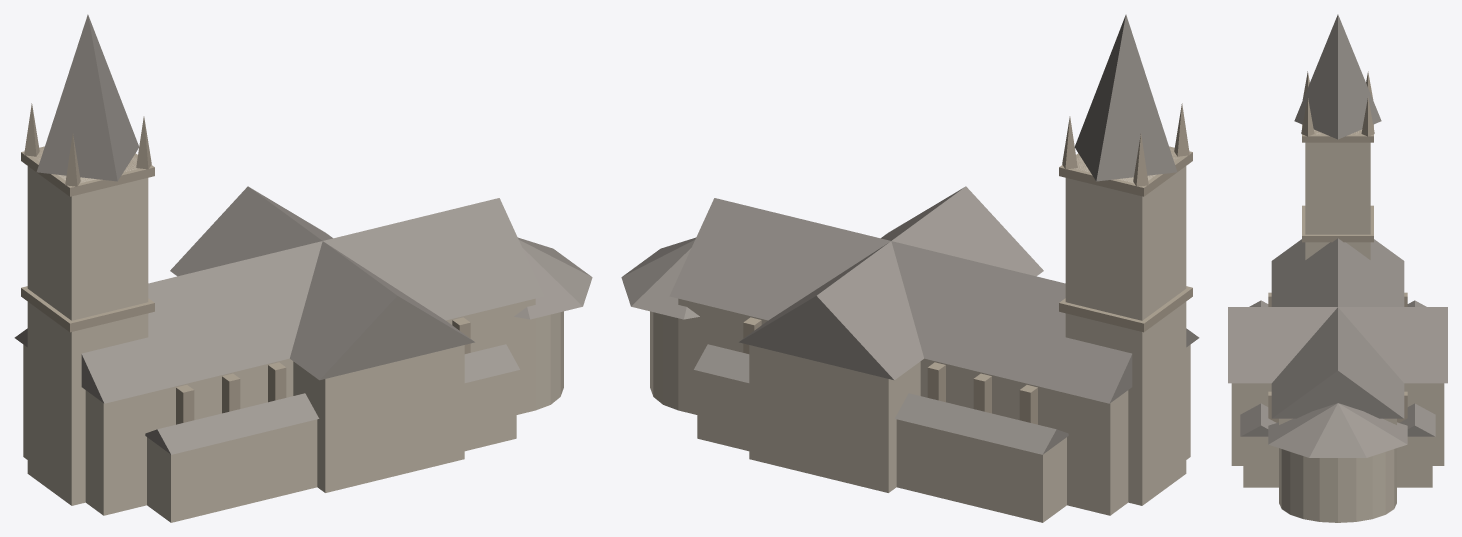
File: begona.glb
3 views of the same model, side by side, from view 1: azimuth 30°, elevation 25°; view 2: azimuth 150°, elevation 25°; view 3: azimuth 270°, elevation 25° (orthographic). The views are drawn at different scales.
Size of the model in its own units: 77.04 by 64 by 37.2.
